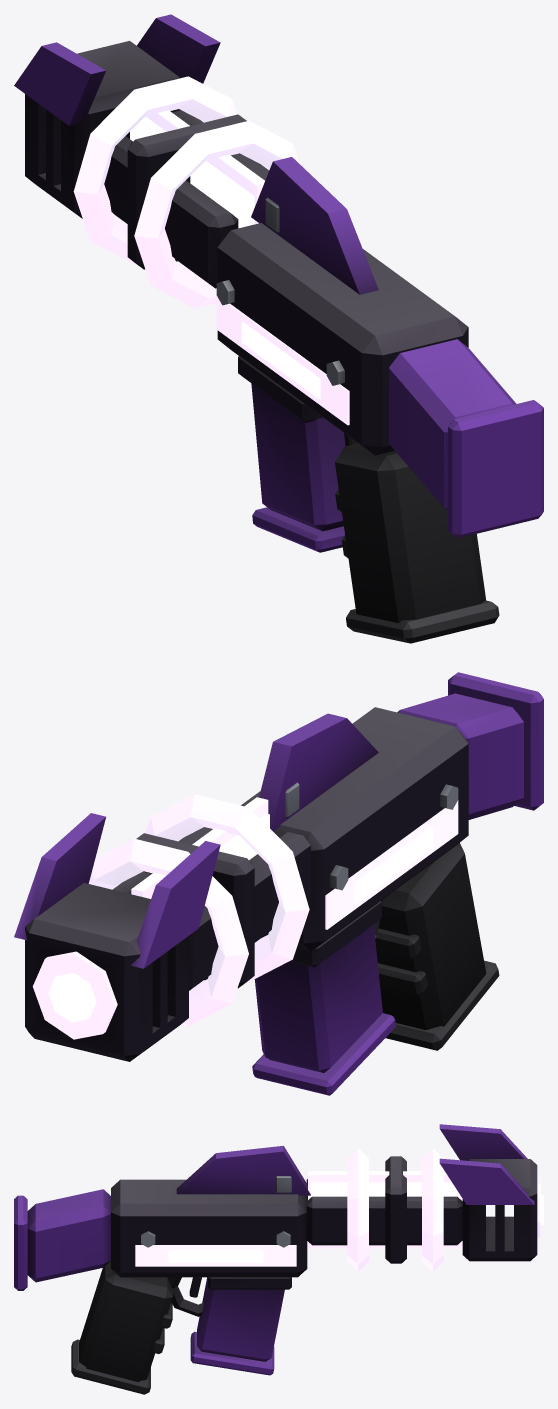
Rendered from Arc.glb.
3 views of the same model, one above another, from view 1: azimuth 30°, elevation 25°; view 2: azimuth 150°, elevation 25°; view 3: azimuth 270°, elevation 25° (orthographic). The views are drawn at different scales.
Parts seen in each view (by area): view 1: Body, Halo_Glow, Accent_Glow; view 2: Body, Halo_Glow, Accent_Glow; view 3: Body, Halo_Glow, Accent_Glow.
Part boxes in pixels (box(x1,y1,x2,y2)): Body: box(14, 14, 543, 643); Halo_Glow: box(73, 76, 349, 425); Accent_Glow: box(130, 117, 320, 398); Body: box(14, 672, 543, 1095); Halo_Glow: box(32, 794, 458, 1039); Accent_Glow: box(48, 813, 433, 1022); Body: box(14, 1124, 537, 1394); Halo_Glow: box(135, 1148, 540, 1271); Accent_Glow: box(168, 1182, 543, 1262).
Size of the model in its own units: 0.92 by 1.94 by 3.91.
